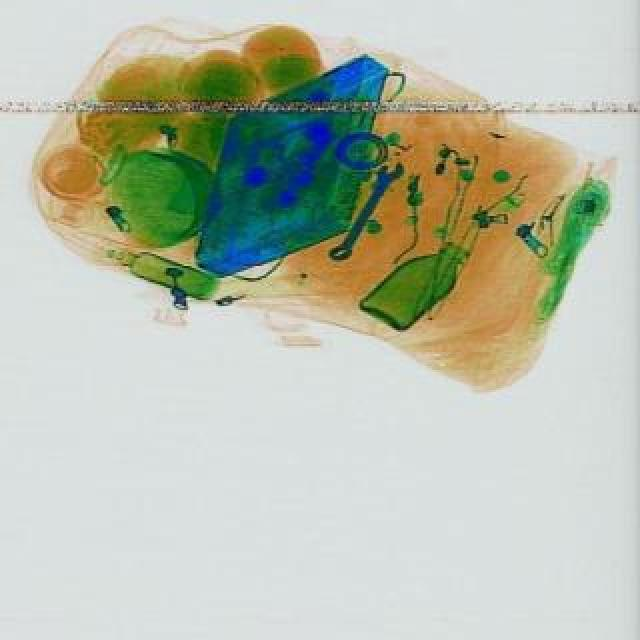scissors: (328, 154, 412, 268)
